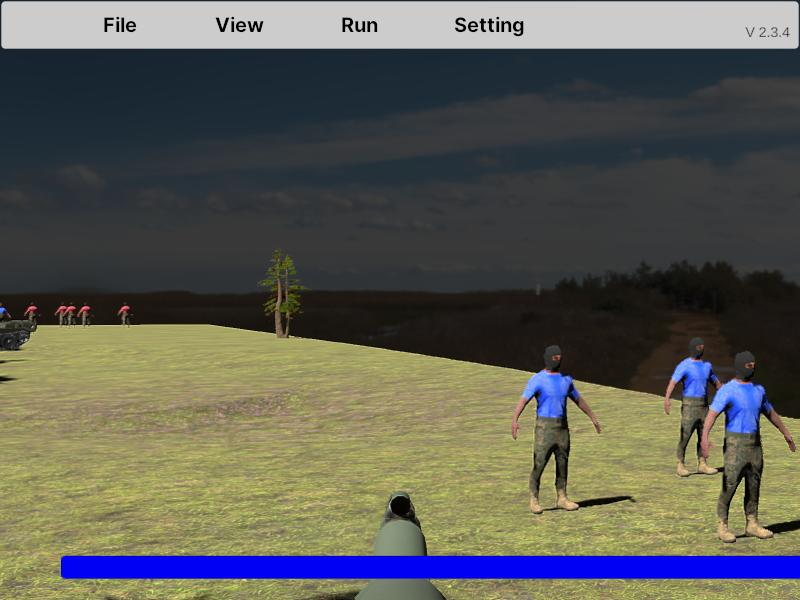Human: (700, 350, 796, 543), (511, 343, 599, 515), (664, 336, 725, 477)
Tank: (0, 313, 37, 352)
